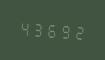four: (18, 17, 30, 38)
nine: (57, 20, 69, 41)
six: (44, 19, 56, 40)
three: (31, 18, 43, 39)
two: (70, 21, 82, 42)
